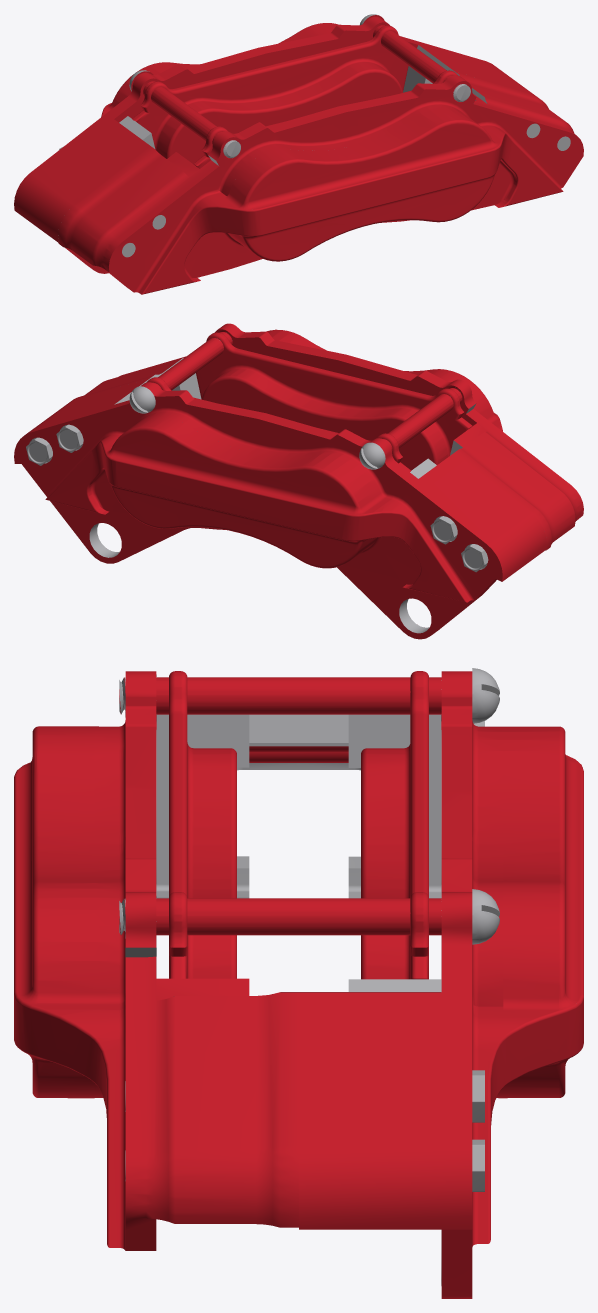
Rendered from monoblock-4p.glb.
3 views of the same model, one above another, from view 1: azimuth 30°, elevation 25°; view 2: azimuth 150°, elevation 25°; view 3: azimuth 270°, elevation 25° (orthographic). The views are drawn at different scales.
Visible parts, largest first — view 1: RealCaliper; view 2: RealCaliper; view 3: RealCaliper.
Boxes of the visible parts, x1,y1,x2,y2 form: RealCaliper: [14, 14, 583, 294]; RealCaliper: [14, 323, 583, 639]; RealCaliper: [14, 668, 583, 1298].
Size of the model in its own units: 0.233 by 0.0846 by 0.1194.
